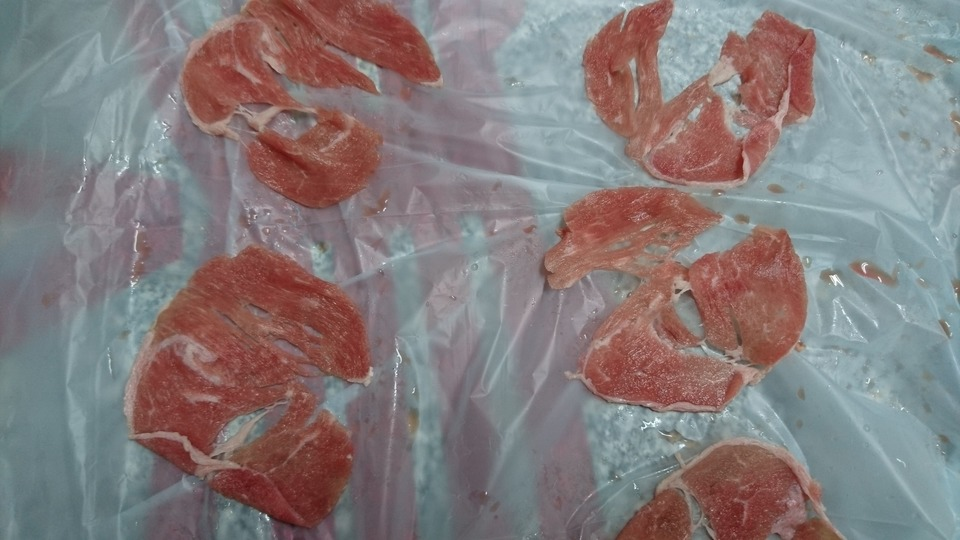restructured meat: (114, 244, 369, 523), (547, 189, 804, 424), (167, 3, 434, 217), (581, 7, 806, 184), (593, 435, 842, 540)
